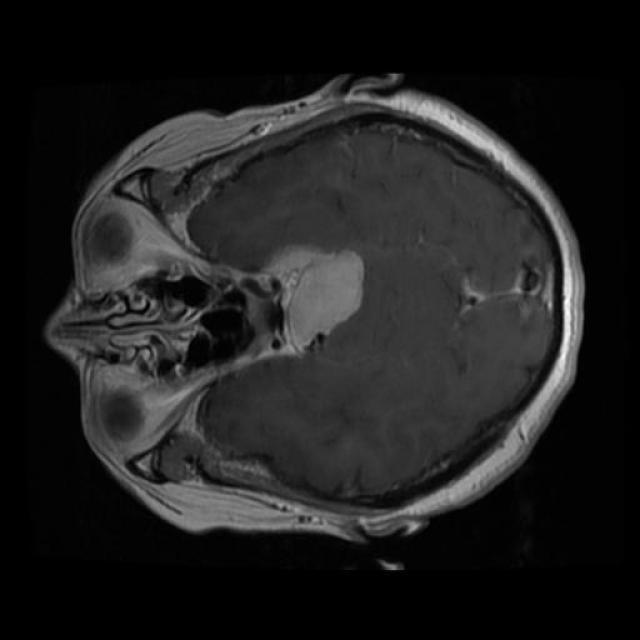Meningioma: (263, 246, 363, 351)
